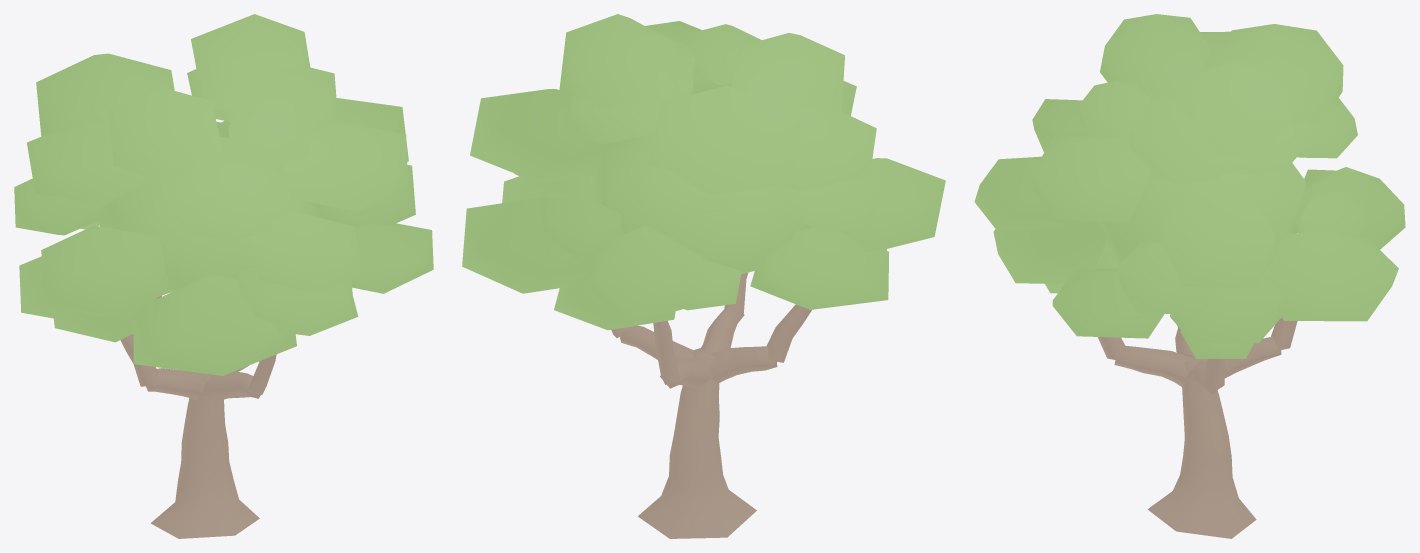
Rendered from Blender_Oak_3_Far.glb.
The picture shows the model from 3 angles, left to right: view 1: azimuth 30°, elevation 25°; view 2: azimuth 150°, elevation 25°; view 3: azimuth 270°, elevation 25°; orthographic projection. The views are drawn at different scales.
Visible parts, largest first — view 1: Blender_Oak_3_Far; view 2: Blender_Oak_3_Far; view 3: Blender_Oak_3_Far.
Boxes of the visible parts, left/top/right/bottom form: Blender_Oak_3_Far: left=14, top=14, right=433, bottom=538; Blender_Oak_3_Far: left=462, top=14, right=945, bottom=538; Blender_Oak_3_Far: left=974, top=14, right=1405, bottom=538.
Size of the model in its own units: 17.91 by 20.89 by 16.7.
